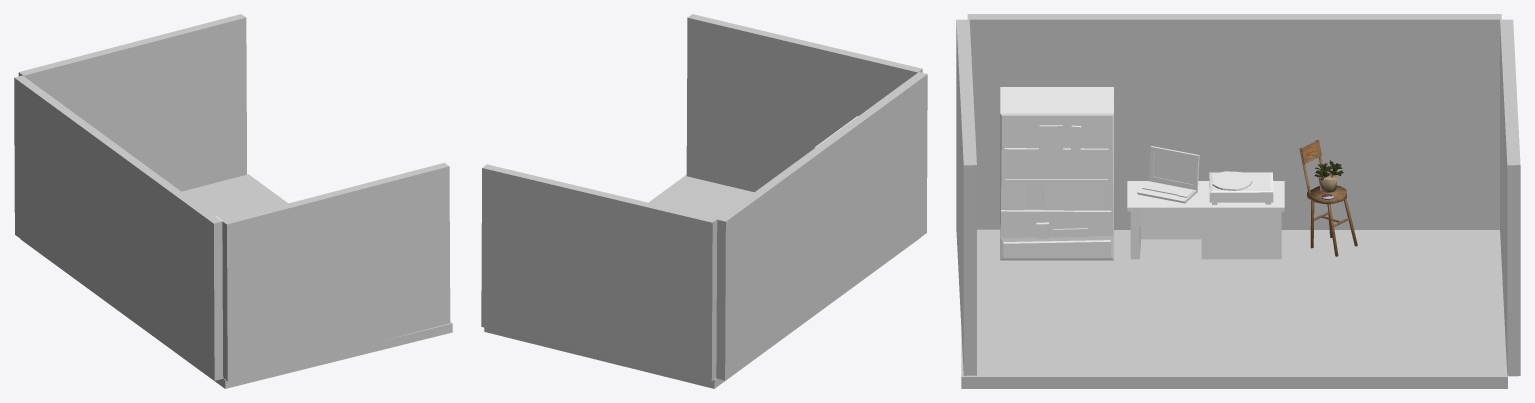
File: Room.glb
The picture shows the model from 3 angles, left to right: view 1: azimuth 30°, elevation 25°; view 2: azimuth 150°, elevation 25°; view 3: azimuth 270°, elevation 25°; orthographic projection. The views are drawn at different scales.
Visible parts, largest first — view 1: wall 3, wall 1, wall 2, floor; view 2: wall 2, wall 1, wall 3, floor; view 3: wall 1, floor, bookshelf, desk, wall 2, wall 3, laptop, turntable, SM_Wooden_Chair__0.001, plant.
Boxes of the visible parts, bbox=[...] form: wall 3: bbox=[222, 162, 450, 381]; wall 1: bbox=[14, 75, 223, 380]; wall 2: bbox=[18, 14, 246, 191]; floor: bbox=[20, 174, 452, 388]; wall 2: bbox=[481, 164, 717, 381]; wall 1: bbox=[716, 72, 927, 380]; wall 3: bbox=[686, 14, 922, 192]; floor: bbox=[484, 175, 920, 388]; wall 1: bbox=[967, 14, 1501, 229]; floor: bbox=[961, 229, 1507, 388]; bookshelf: bbox=[1000, 87, 1113, 260]; desk: bbox=[1127, 181, 1284, 259]; wall 2: bbox=[1500, 19, 1520, 376]; wall 3: bbox=[956, 19, 976, 375]; laptop: bbox=[1137, 146, 1199, 203]; turntable: bbox=[1209, 171, 1273, 204]; SM_Wooden_Chair__0.001: bbox=[1299, 140, 1357, 256]; plant: bbox=[1314, 160, 1343, 192].
Bounding box in the file's own units: 29.66 × 20.02 × 45.78.
9 materials, 3 textured.
